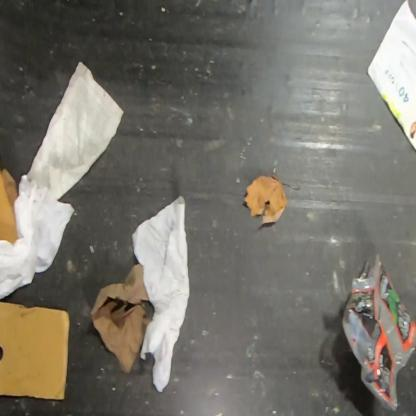cardboard: (0, 300, 70, 402), (0, 159, 20, 246)
soft_plastic: (339, 253, 415, 413)
